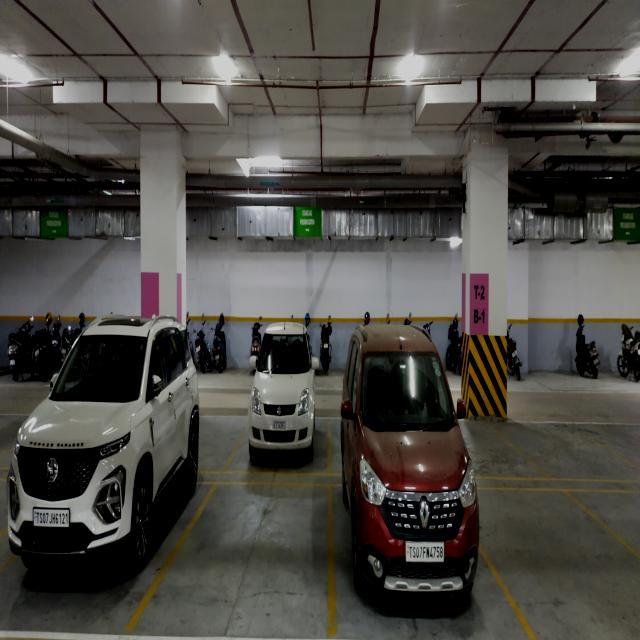car: (38, 382, 136, 588), (356, 454, 470, 625), (254, 368, 320, 472)
free: (194, 502, 334, 632), (466, 413, 530, 497), (200, 395, 238, 470)
